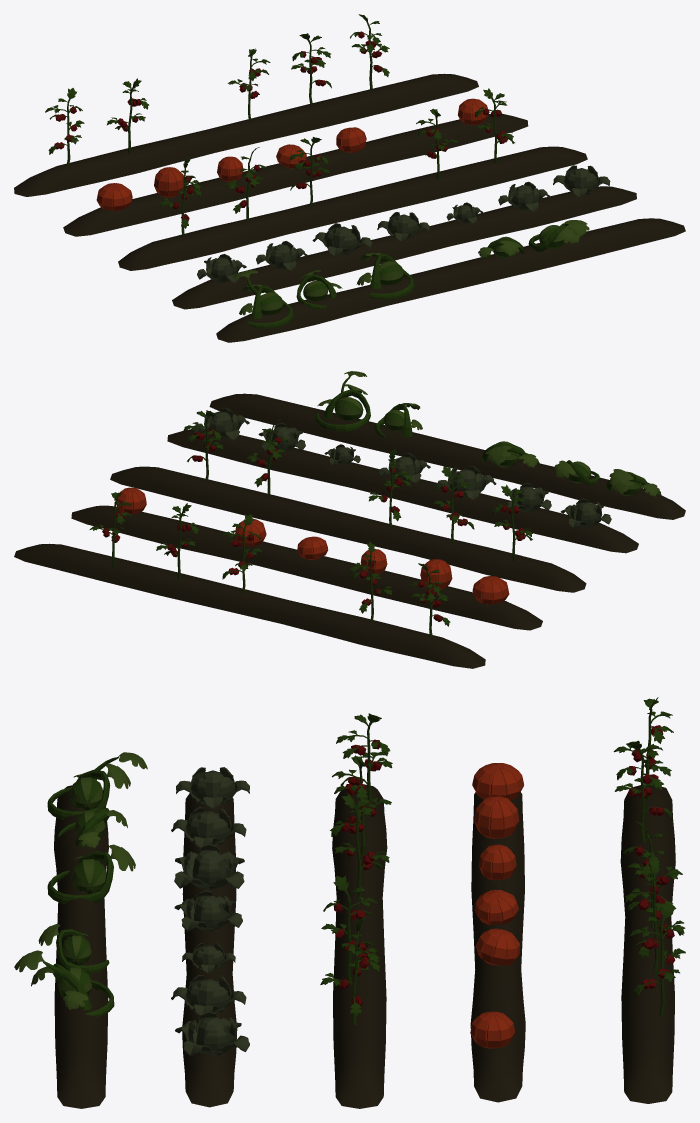
File: Farm_Dirt_Level3_Cube.obj
3 renders of one model, top to bottom at view 1: azimuth 30°, elevation 25°; view 2: azimuth 150°, elevation 25°; view 3: azimuth 270°, elevation 25°, orthographic. The views are drawn at different scales.
Parts seen in each view (by area): view 1: Farm_Dirt_Level3_Cube.053; view 2: Farm_Dirt_Level3_Cube.053; view 3: Farm_Dirt_Level3_Cube.053.
Boxes of the visible parts, box(x1,y1,x2,y2) form: Farm_Dirt_Level3_Cube.053: box(14, 14, 685, 342); Farm_Dirt_Level3_Cube.053: box(14, 371, 685, 668); Farm_Dirt_Level3_Cube.053: box(14, 697, 685, 1108).
Bounding box in the file's own units: 1.79 × 0.3227 × 1.56.
